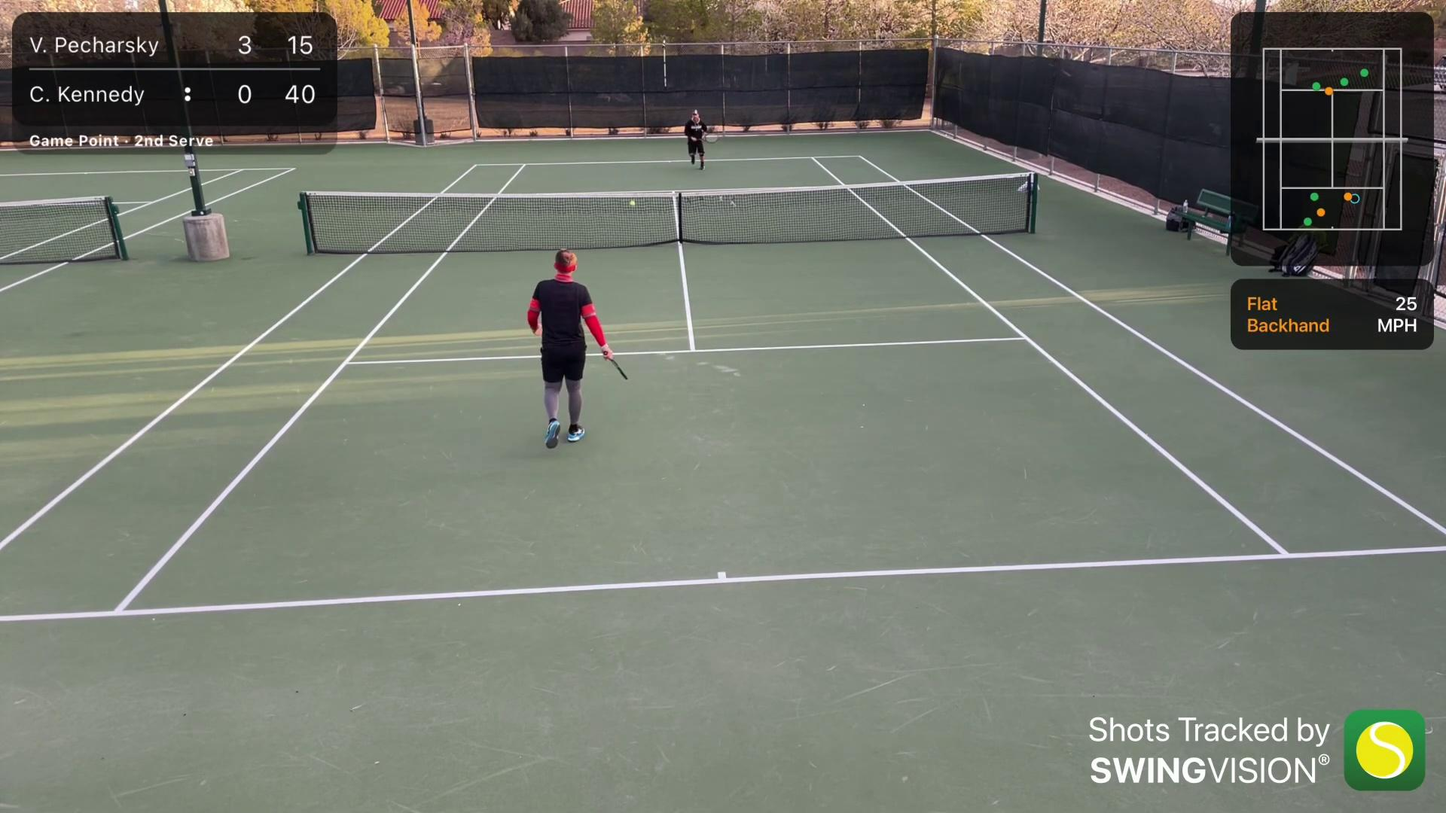ball: (630, 201, 637, 207)
